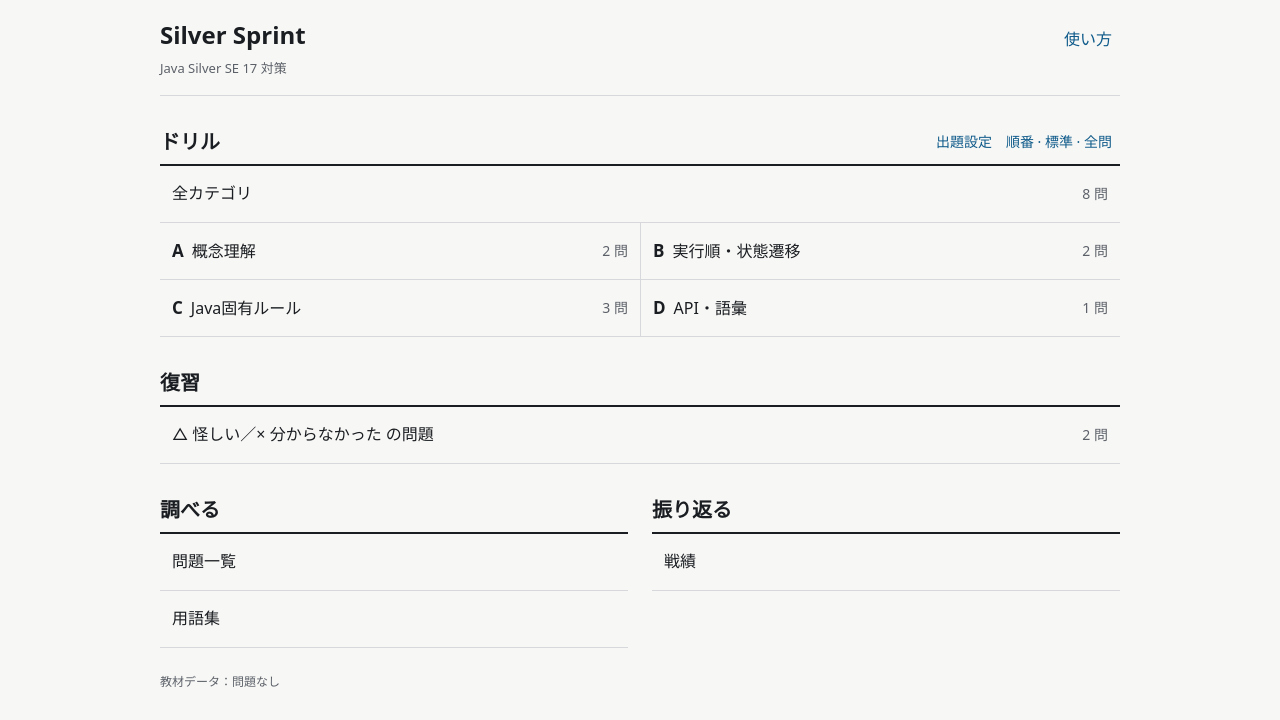
Review Drill › counts only existing weak material in the independent Home Review section
The width and height of the screenshot is (1280, 720).
Check: the text "△ 怪しい／× 分からなかった の問題" is shown, box [172,422,434,448]
Click the text "2 問" in the row of "△ 怪しい／× 分からなかった の問題" at x=1095, y=435, box [1082,424,1108,446]
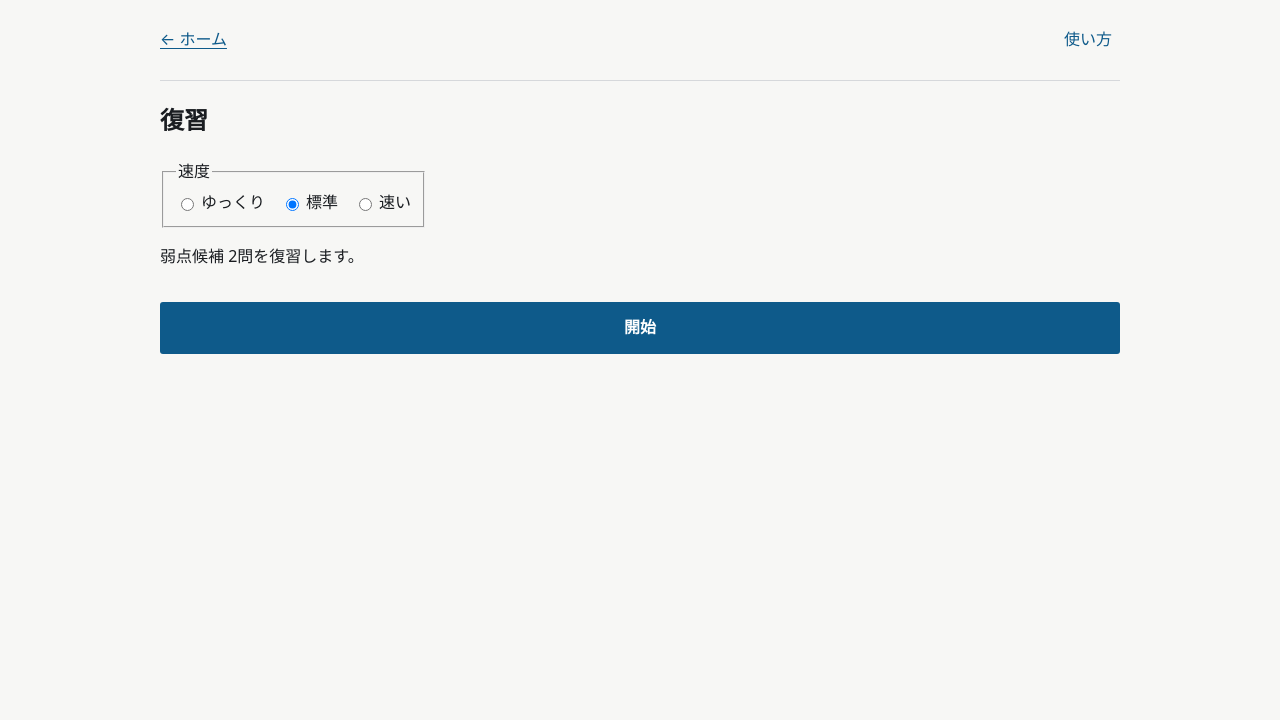
Check: the text "弱点候補 2問を復習します。" is shown, box [160,245,364,267]
